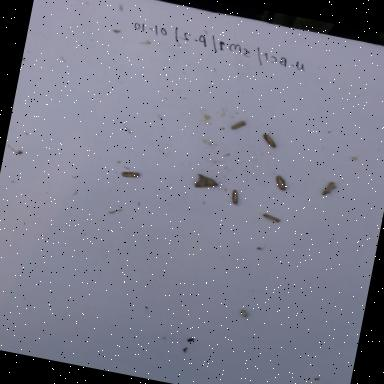pbw: (309, 176, 344, 205), (223, 112, 253, 140), (193, 172, 227, 195), (255, 128, 285, 154), (258, 207, 286, 229), (224, 187, 246, 210), (116, 166, 142, 182), (272, 173, 290, 195)
